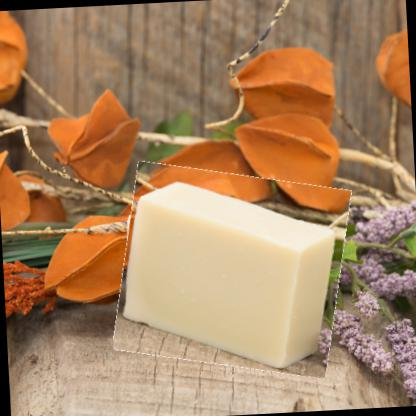soap: (111, 160, 353, 380)
